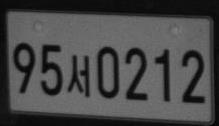0: (95, 45, 119, 99)
1: (152, 49, 178, 101)
2: (181, 49, 206, 104), (123, 46, 148, 100)
5: (39, 43, 63, 97)
9: (11, 41, 35, 94)
서: (67, 55, 90, 97)
